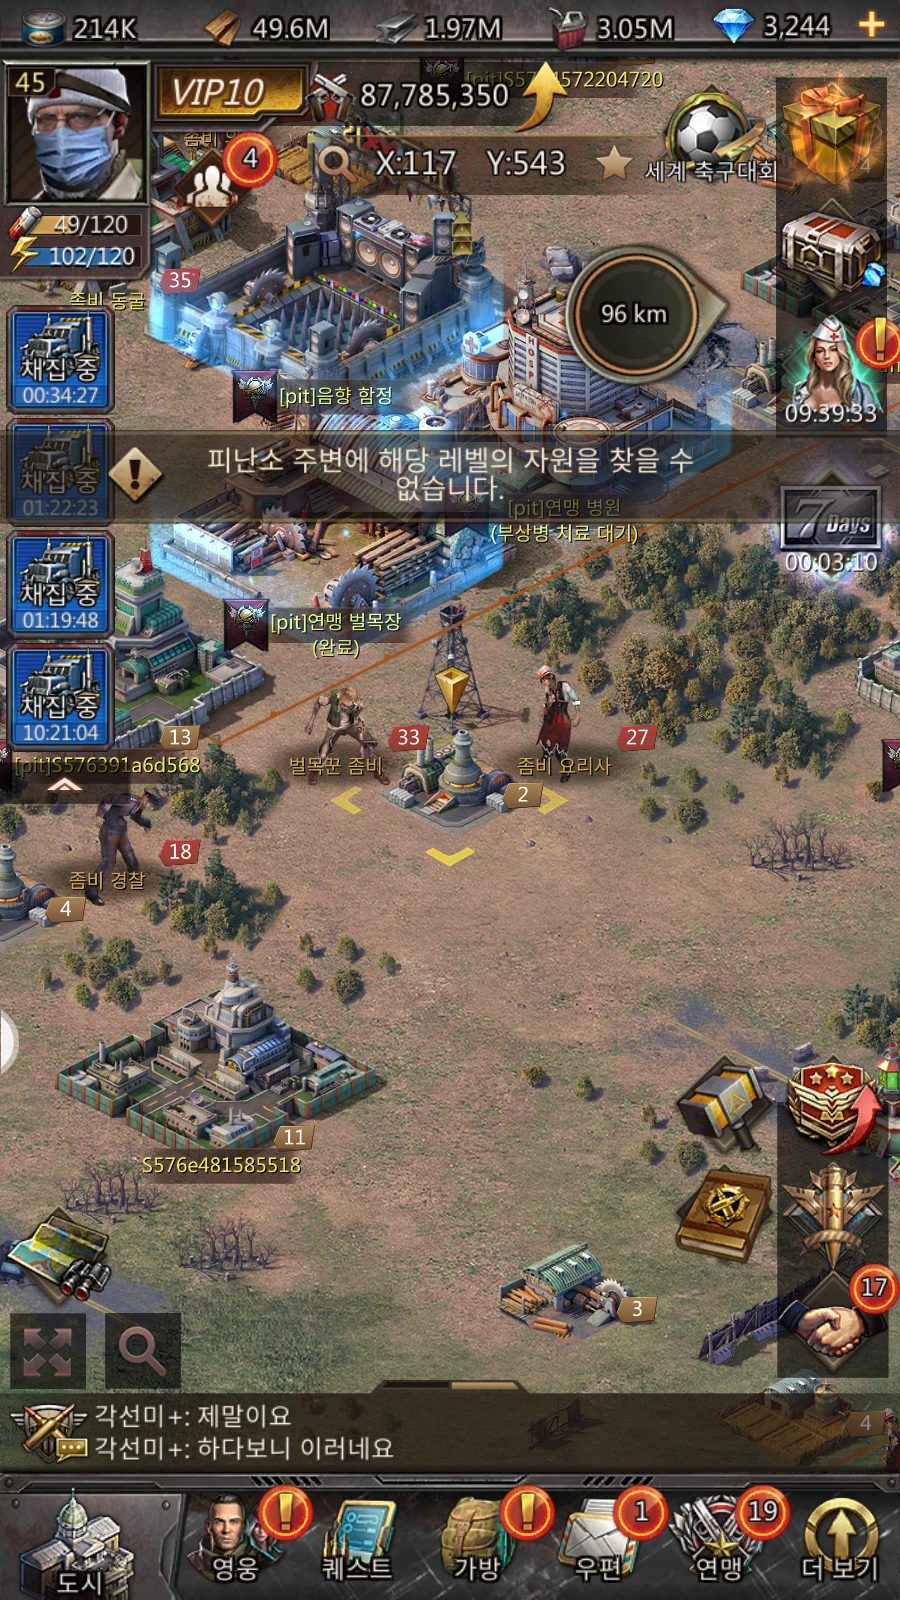city: (15, 1493, 179, 1600)
not_found_rss: (91, 431, 713, 525)
open_panel: (100, 1307, 193, 1393)
troops_cnt_2: (322, 653, 596, 880)
troops_cnt_4: (158, 124, 295, 242)
